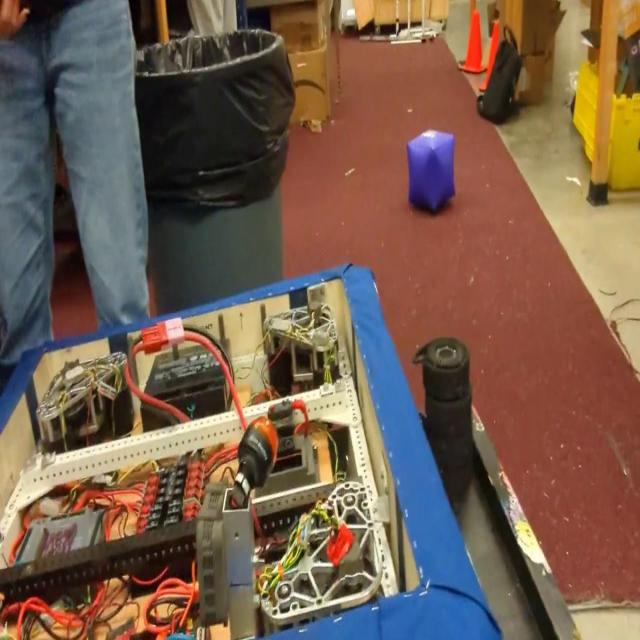frc_cube: (406, 128, 455, 213)
